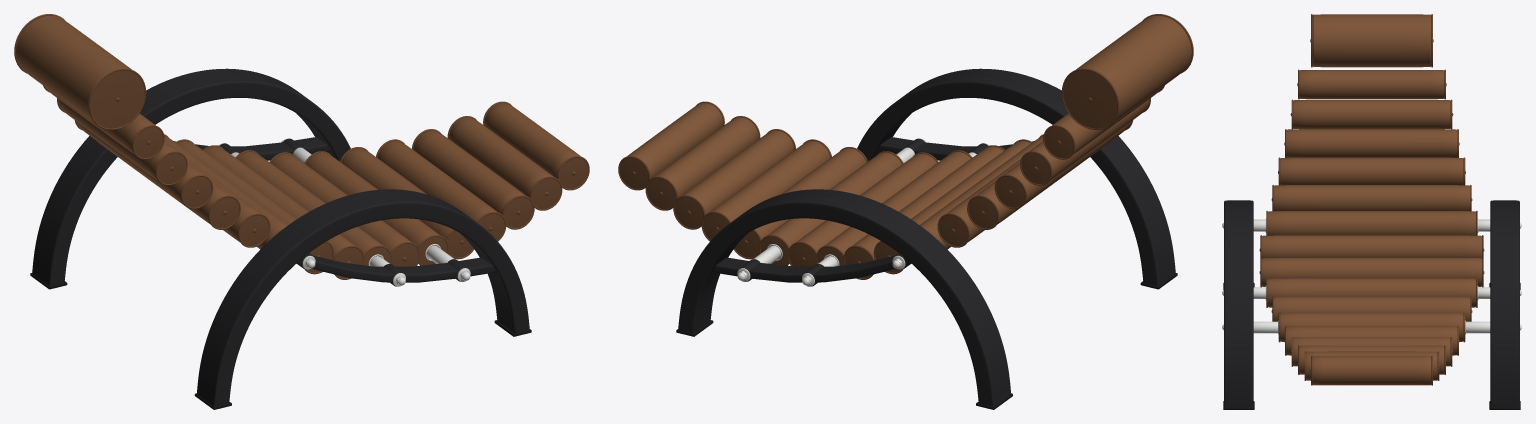
Rendered from duolune.glb.
The picture shows the model from 3 angles, left to right: view 1: azimuth 30°, elevation 25°; view 2: azimuth 150°, elevation 25°; view 3: azimuth 270°, elevation 25°; orthographic projection. The views are drawn at different scales.
Parts seen in each view (by area): view 1: rollers, frame, trim, rail, hardware; view 2: rollers, frame, trim, rail, hardware; view 3: rollers, frame, trim, hardware.
Boxes of the visible parts, left/top/right/bottom form: rollers: left=16, top=15, right=580, bottom=274; frame: left=32, top=68, right=529, bottom=406; trim: left=14, top=14, right=589, bottom=279; rail: left=174, top=137, right=495, bottom=286; hardware: left=218, top=138, right=470, bottom=286; rollers: left=627, top=15, right=1191, bottom=274; frame: left=678, top=68, right=1175, bottom=406; trim: left=618, top=14, right=1193, bottom=279; rail: left=712, top=137, right=1033, bottom=286; hardware: left=737, top=138, right=989, bottom=286; rollers: left=1262, top=14, right=1481, bottom=385; frame: left=1224, top=200, right=1519, bottom=407; trim: left=1259, top=14, right=1484, bottom=385; hardware: left=1222, top=218, right=1521, bottom=334.
Bounding box in the file's own units: 1.74 × 1.03 × 1.11.
